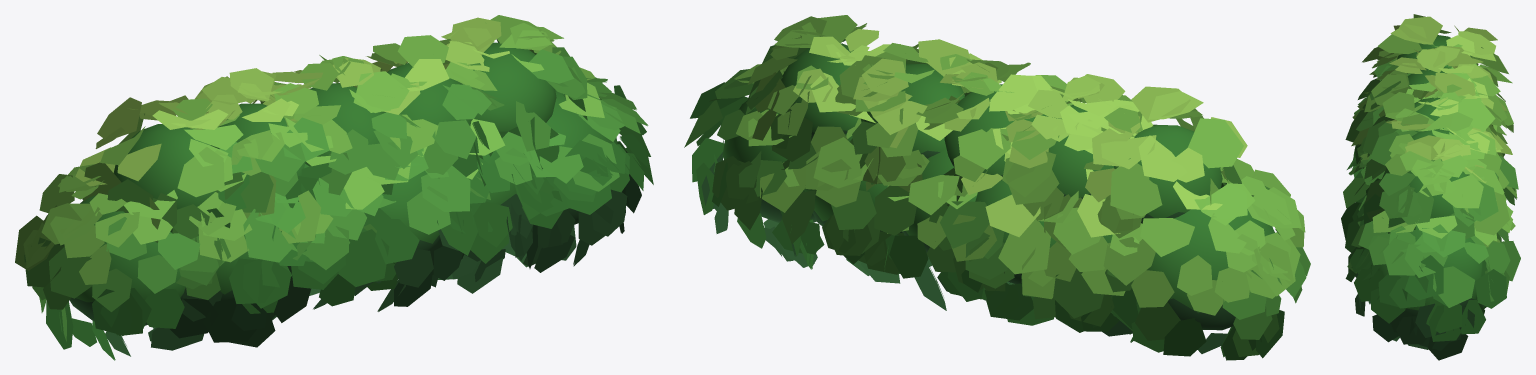
The model's file is HedgeStraight.glb.
The picture shows the model from 3 angles, left to right: view 1: azimuth 30°, elevation 25°; view 2: azimuth 150°, elevation 25°; view 3: azimuth 270°, elevation 25°; orthographic projection. The views are drawn at different scales.
Visible parts, largest first — view 1: Rustle, Body; view 2: Rustle, Body; view 3: Rustle, Body.
Part boxes in pixels (x1=…): Rustle: x1=15, y1=15, x2=653, y2=360; Body: x1=59, y1=42, x2=617, y2=325; Rustle: x1=684, y1=15, x2=1310, y2=360; Body: x1=722, y1=43, x2=1274, y2=330; Rustle: x1=1341, y1=14, x2=1520, y2=360; Body: x1=1377, y1=35, x2=1482, y2=316.
Size of the model in its own units: 8.7 by 3.42 by 2.93.
2 materials, 2 textured.
